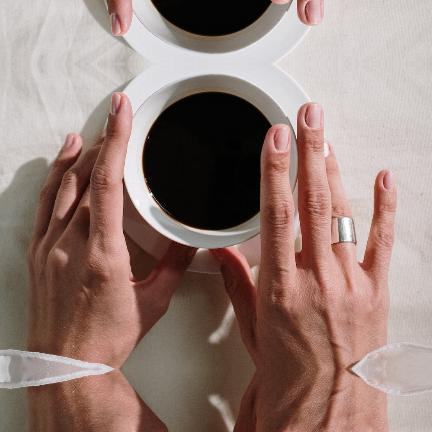Nail: (274, 124, 290, 151), (306, 102, 322, 127), (306, 0, 322, 24), (110, 91, 121, 114), (110, 12, 121, 35), (384, 170, 397, 189), (63, 133, 73, 147), (281, 0, 289, 2)
